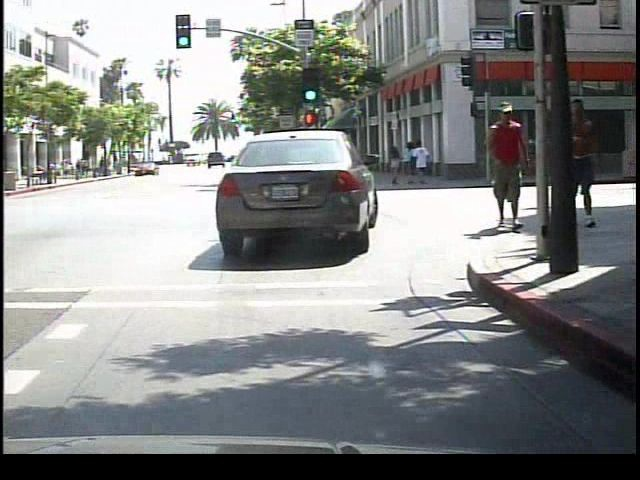person: (479, 96, 532, 236), (553, 96, 602, 234)
